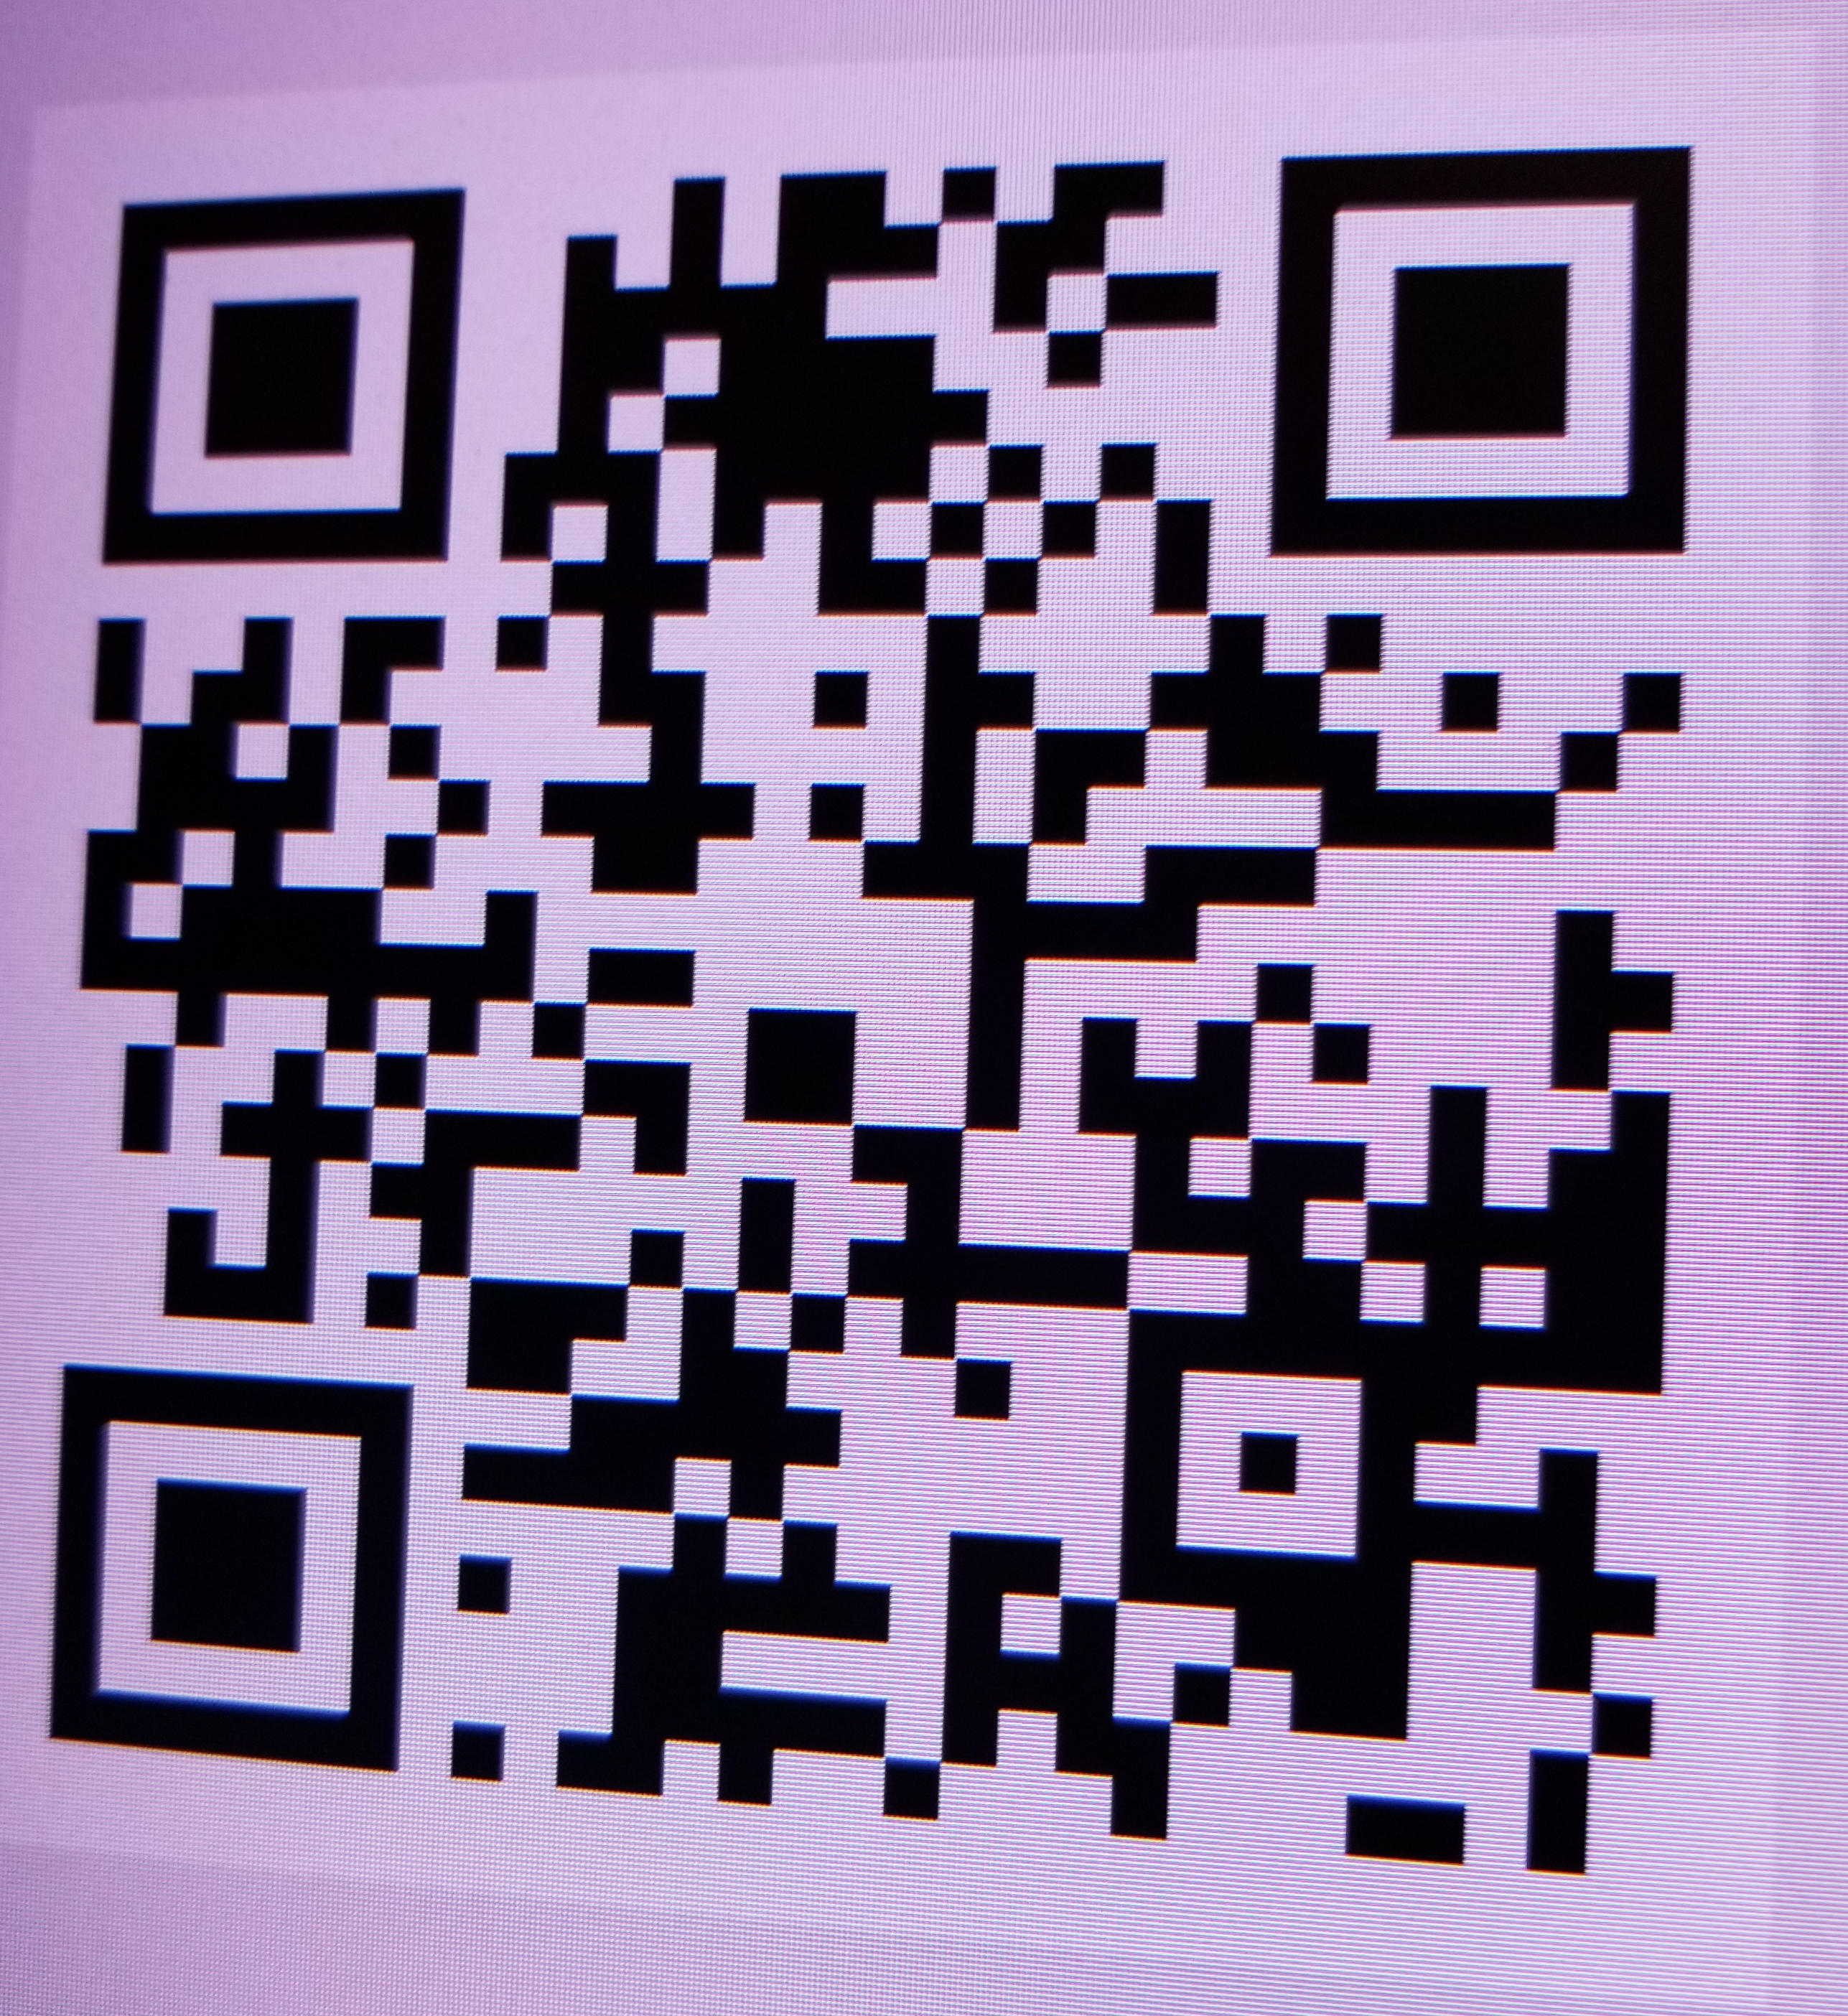QR_CODE: (44, 83, 1748, 1909)
